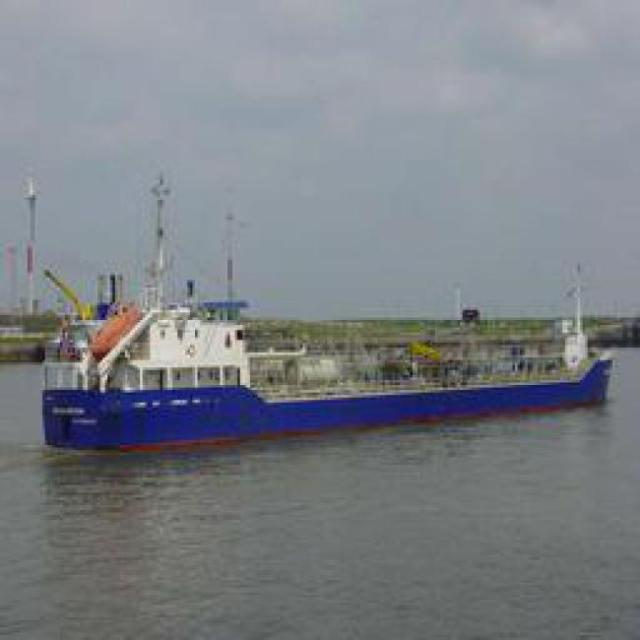boat: (42, 311, 626, 436)
